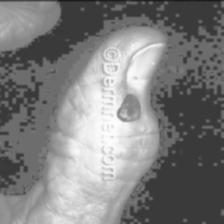Toxin: (116, 94, 146, 126)
